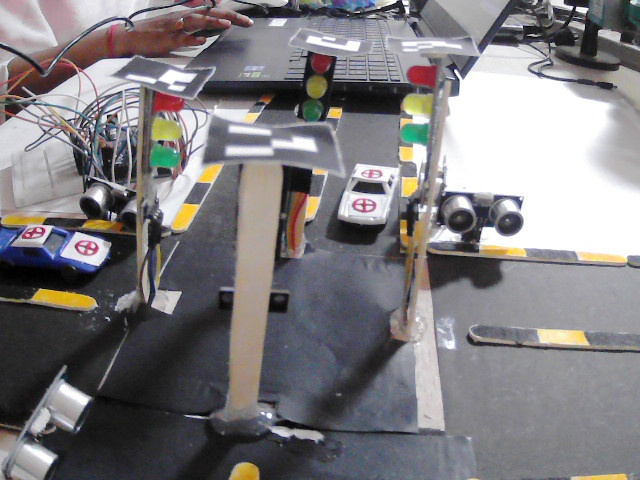aruco_marker: (205, 120, 344, 174), (116, 53, 212, 99), (289, 26, 373, 60), (386, 31, 473, 57)
emergency_vehicle: (0, 224, 111, 281), (335, 161, 402, 229)
traffic_light: (400, 60, 446, 162), (142, 91, 181, 177), (297, 54, 336, 122)
uno_breadboard: (9, 121, 139, 209), (4, 369, 95, 480), (79, 178, 157, 233), (443, 190, 524, 235), (413, 170, 447, 237)
